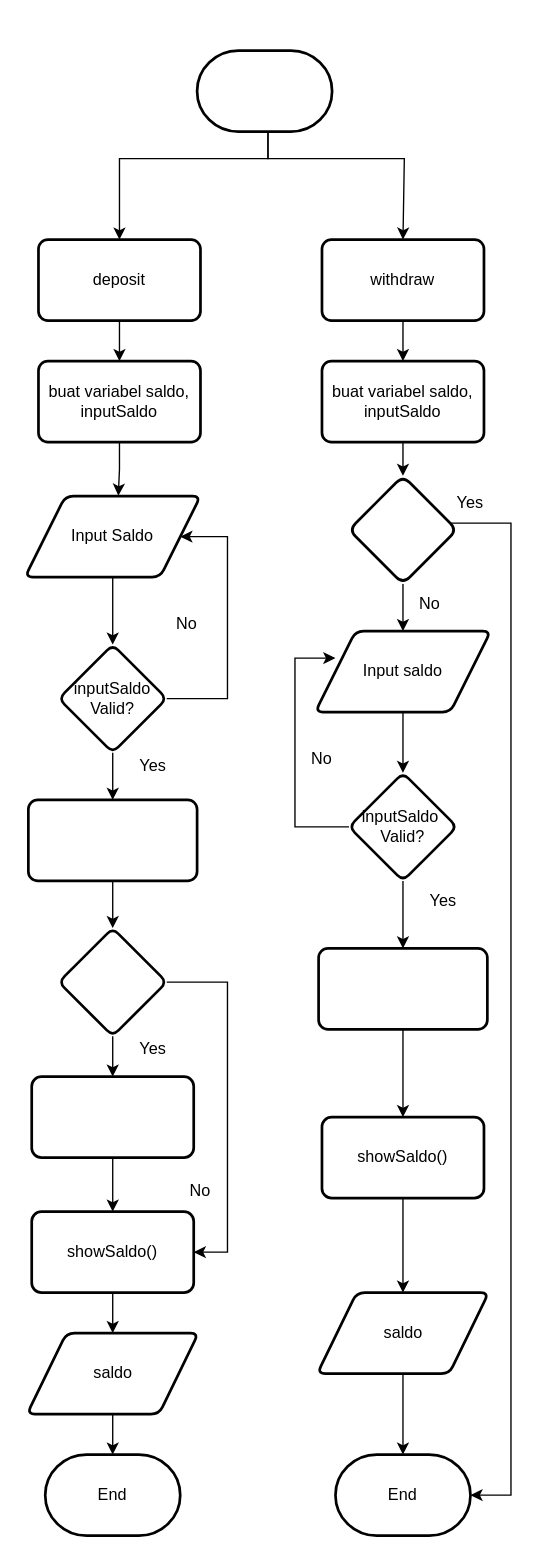
This 545x1559 diagram has some shape labels left out. The shapes that lost their labels are listed below. From the top down, each one's centre as x and y in pixels, then its label:
(x=264, y=90): Start
(x=402, y=529): saldo<=0?
(x=112, y=840): saldo = saldo + inputSaldo
(x=112, y=981): First Transaction
(x=402, y=988): saldo = saldo - inputSaldo
(x=112, y=1116): saldo-2000
